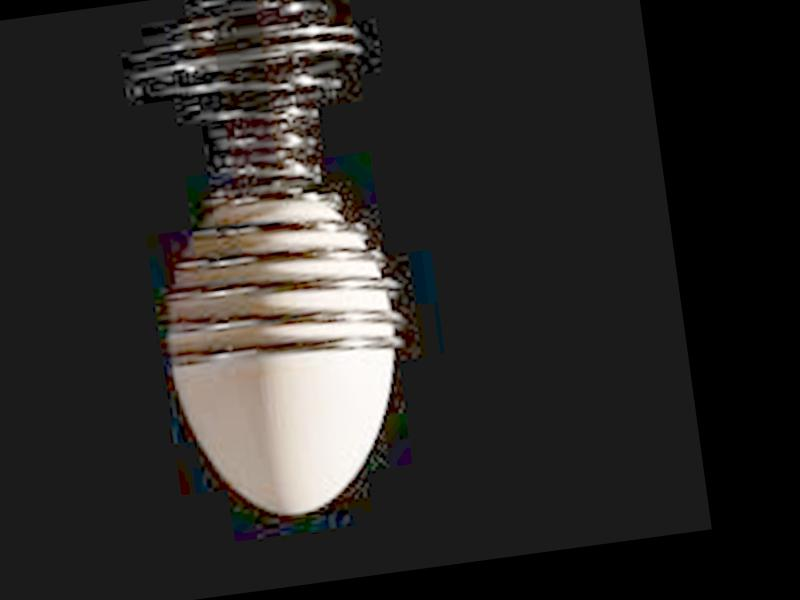Eggs: (152, 184, 417, 529)
